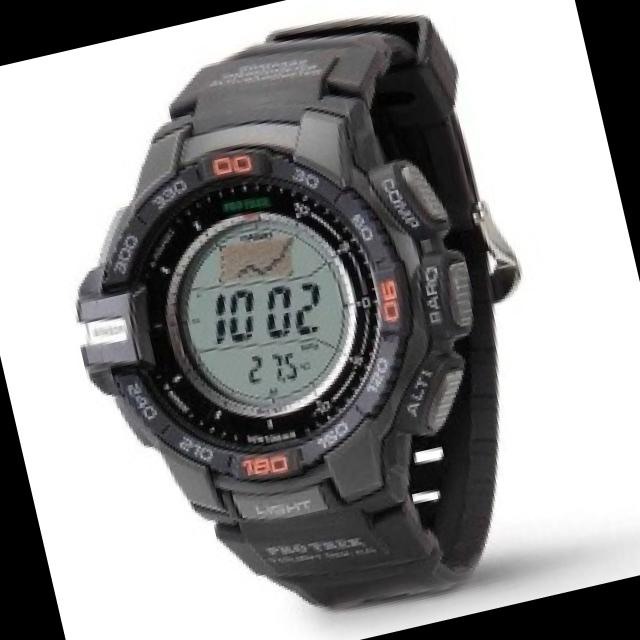saat: (4, 0, 599, 640)
